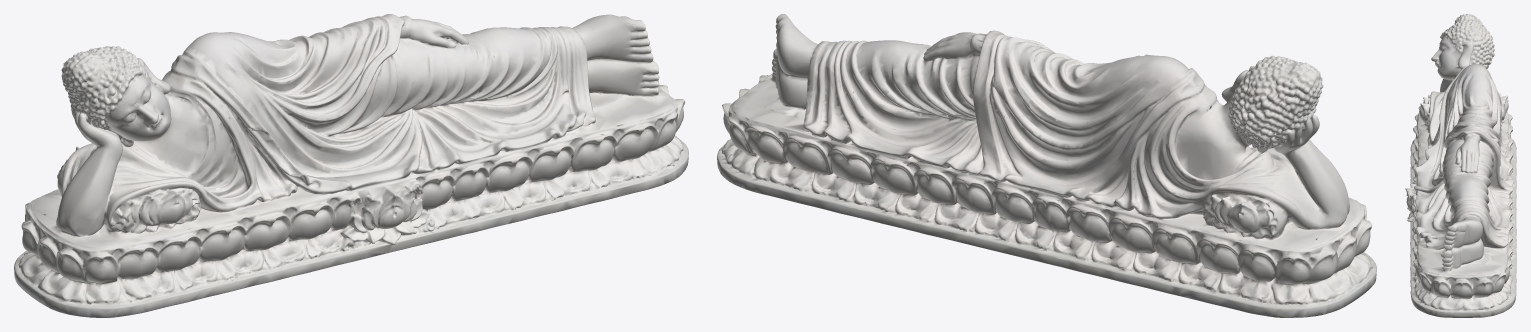
3 views of the same model, side by side, from view 1: azimuth 30°, elevation 25°; view 2: azimuth 150°, elevation 25°; view 3: azimuth 270°, elevation 25° (orthographic). The views are drawn at different scales.
Visible parts, largest first — view 1: four-heavenly-kings-07; view 2: four-heavenly-kings-07; view 3: four-heavenly-kings-07.
Part boxes in pixels (left/top/right/bottom): four-heavenly-kings-07: left=14, top=14, right=688, bottom=317; four-heavenly-kings-07: left=717, top=14, right=1376, bottom=317; four-heavenly-kings-07: left=1405, top=14, right=1516, bottom=317.
Size of the model in its own units: 2.93 by 0.9997 by 0.747.
Materials: 1 (1 with a texture image).
